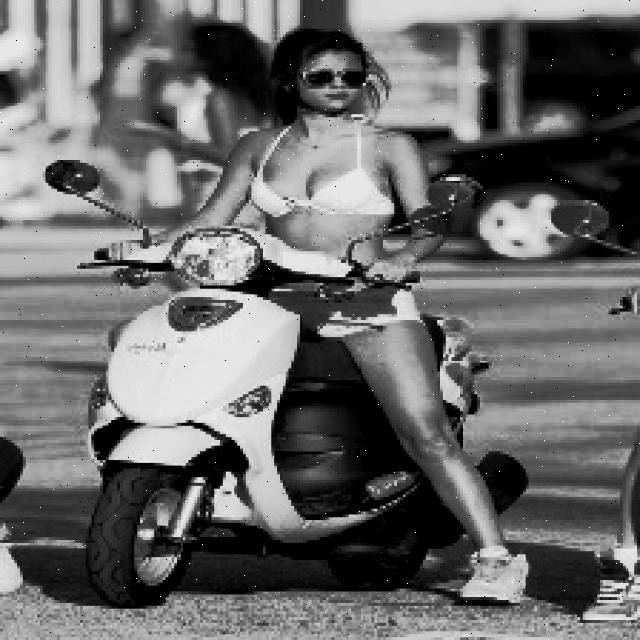Bike: (81, 228, 435, 610)
